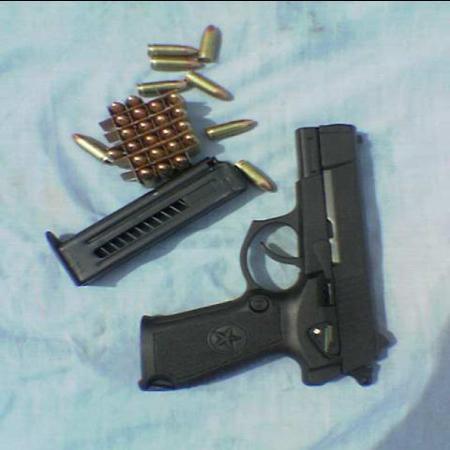Pistol: (139, 121, 392, 389)
